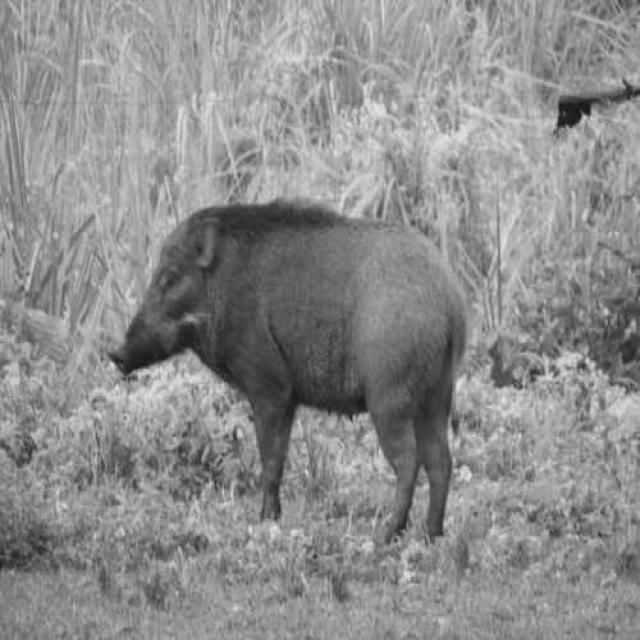boar: (110, 200, 467, 536)
